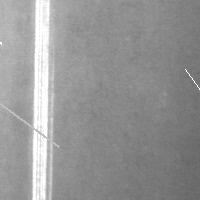scratches: (28, 1, 55, 199), (0, 87, 64, 152), (180, 64, 200, 110), (0, 29, 6, 48)
